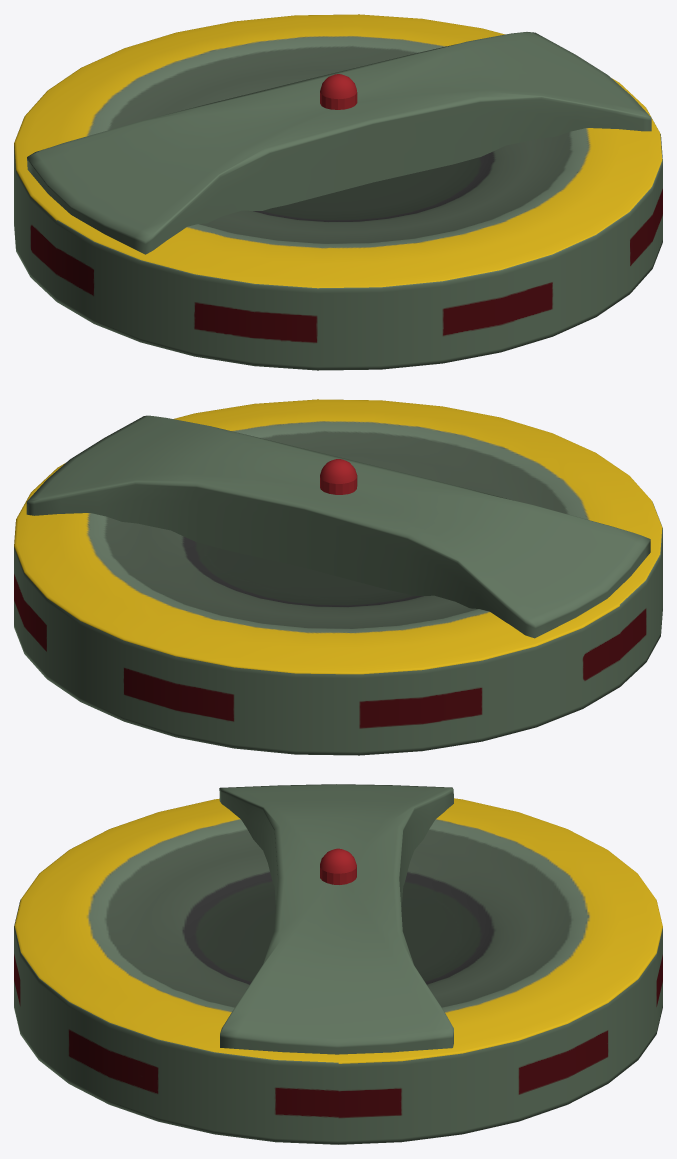
3 renders of one model, top to bottom at view 1: azimuth 30°, elevation 25°; view 2: azimuth 150°, elevation 25°; view 3: azimuth 270°, elevation 25°, orthographic.
Visible parts, largest first — view 1: Cylinder002; view 2: Cylinder002; view 3: Cylinder002.
Part boxes in pixels (x1,y1,x2,y2): Cylinder002: [14, 14, 662, 370]; Cylinder002: [14, 399, 662, 755]; Cylinder002: [14, 784, 662, 1144].
Bounding box in the file's own units: 25.56 × 6.86 × 25.56.
Materials: 1 (1 with a texture image).
